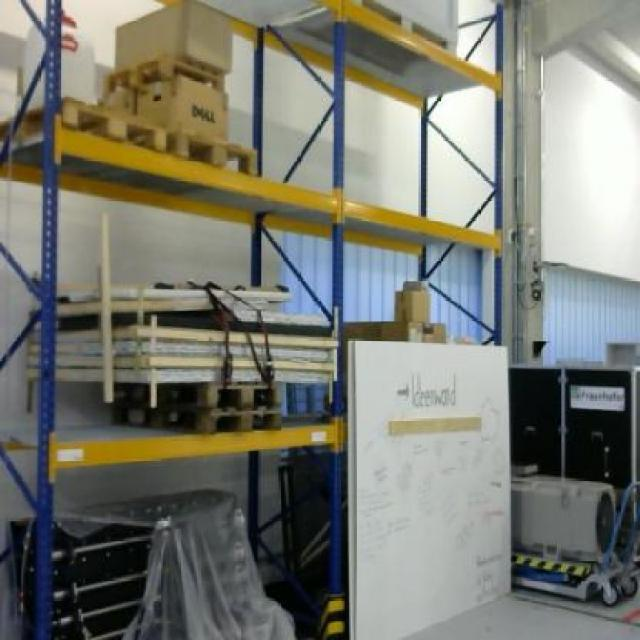box: (114, 2, 232, 72), (133, 76, 229, 138), (392, 289, 430, 325)
